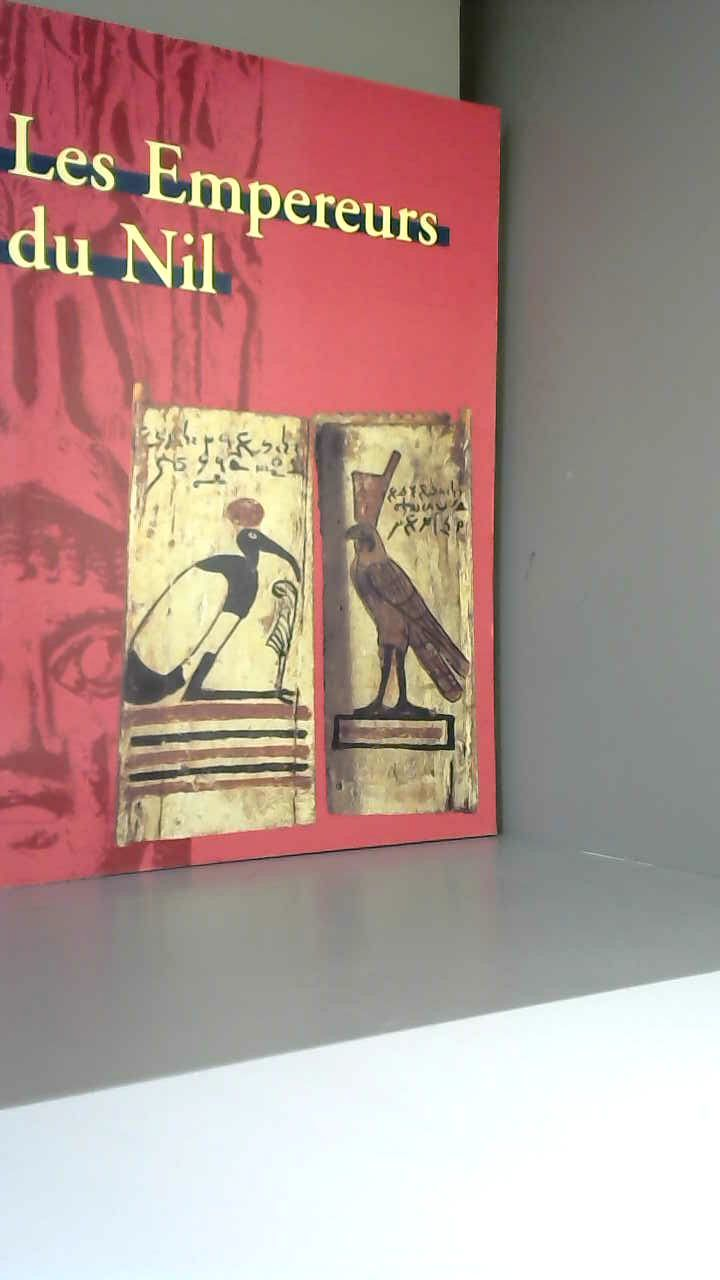book: (0, 0, 557, 916)
